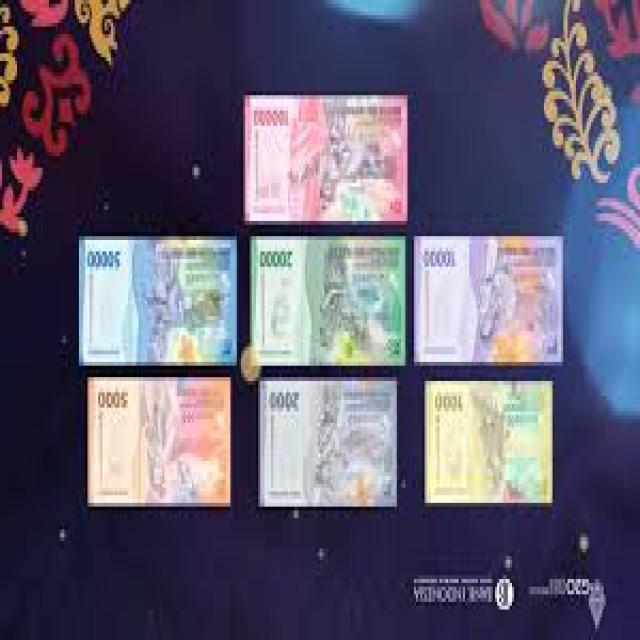dua puluh ribu rupiah: (250, 235, 405, 368)
dua ribu rupiah: (259, 380, 397, 506)
lima puluh ribu rupiah: (79, 235, 236, 366)
lima ribu rupiah: (86, 377, 232, 506)
sepuluh ribu rupiah: (413, 236, 563, 363)
seratus ribu rupiah: (244, 94, 408, 224)
seribu rupiah: (424, 383, 552, 505)
